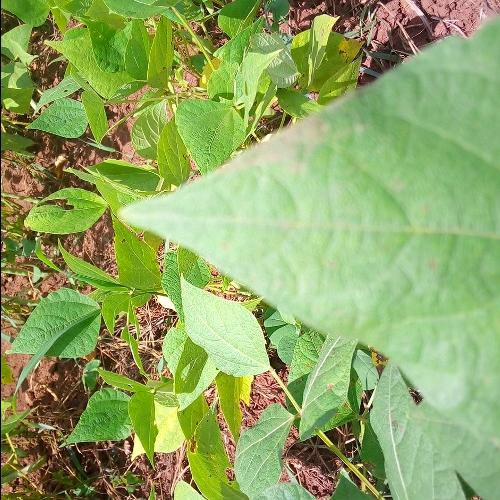sehat: (398, 440, 432, 483), (196, 312, 240, 343)
